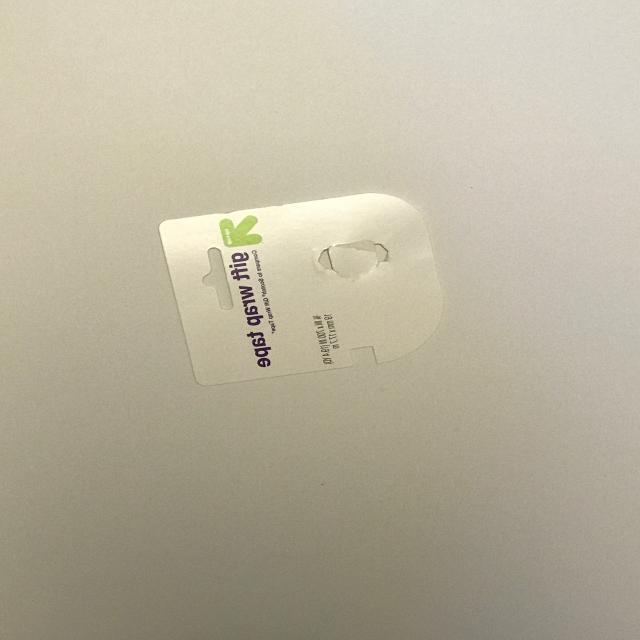paper: (142, 176, 460, 399)
